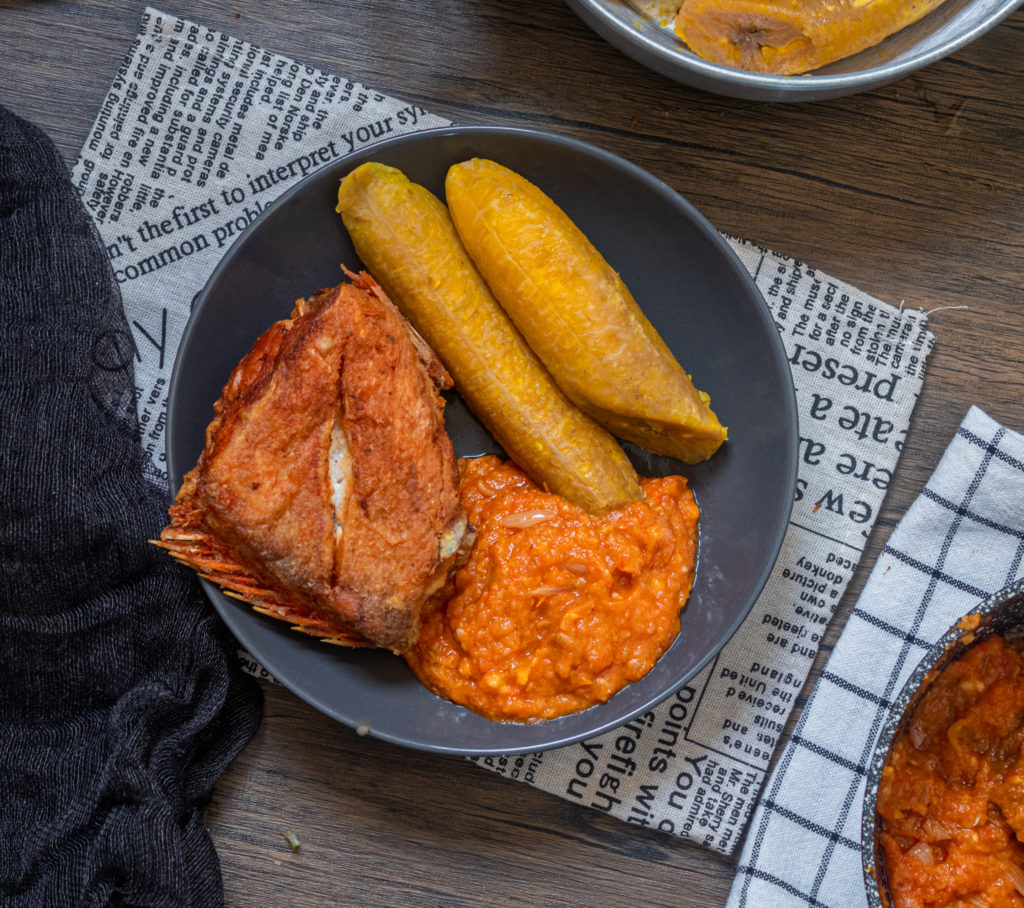akwessi: (478, 516, 662, 668)
banane plantain: (410, 218, 636, 439)
poisson: (228, 341, 437, 591)
